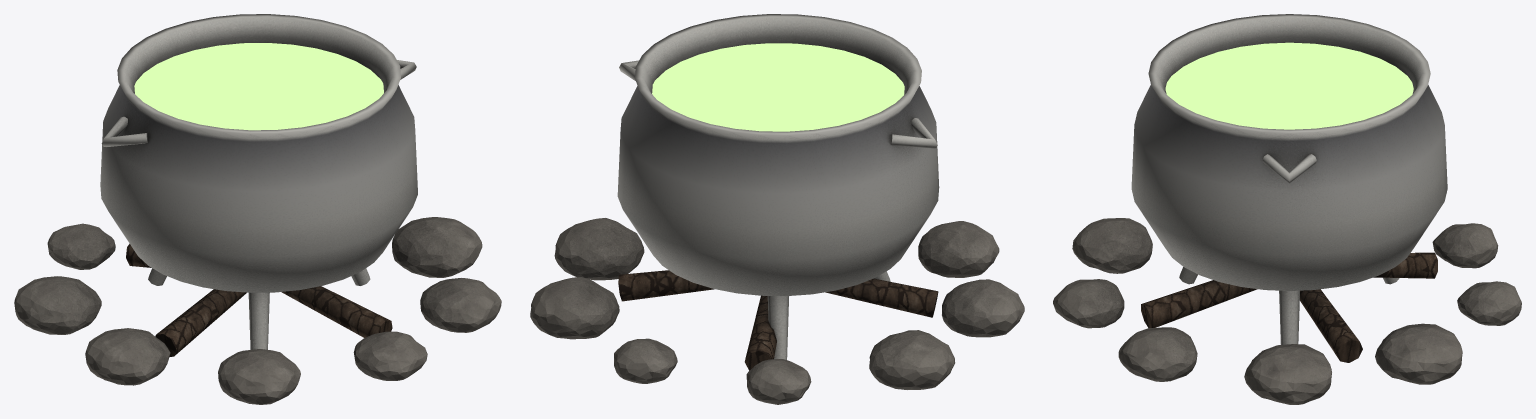
The model's file is cenario_caldeirao.glb.
3 renders of one model, left to right at view 1: azimuth 30°, elevation 25°; view 2: azimuth 150°, elevation 25°; view 3: azimuth 270°, elevation 25°, orthographic.
Visible parts, largest first — view 1: cenario_caldeirao_tronco, Cylinder; view 2: cenario_caldeirao_tronco, Cylinder; view 3: cenario_caldeirao_tronco, Cylinder.
Boxes of the visible parts, bbox=[...] form: cenario_caldeirao_tronco: bbox=[14, 14, 501, 404]; Cylinder: bbox=[134, 43, 383, 130]; cenario_caldeirao_tronco: bbox=[530, 14, 1024, 404]; Cylinder: bbox=[652, 43, 904, 131]; cenario_caldeirao_tronco: bbox=[1053, 14, 1521, 404]; Cylinder: bbox=[1165, 42, 1413, 129].
Bounding box in the file's own units: 1.71 × 0.938 × 1.66.
2 materials, 1 textured.
